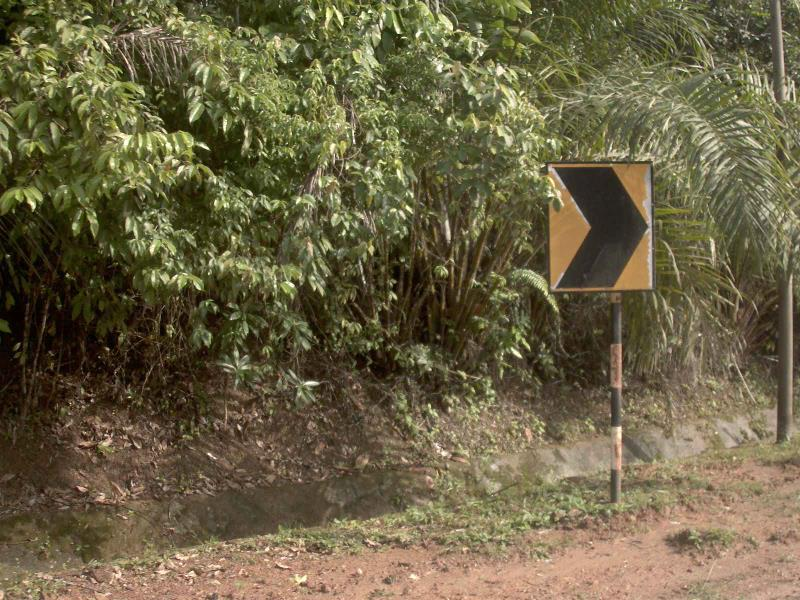traffic_sign: (531, 144, 668, 311)
